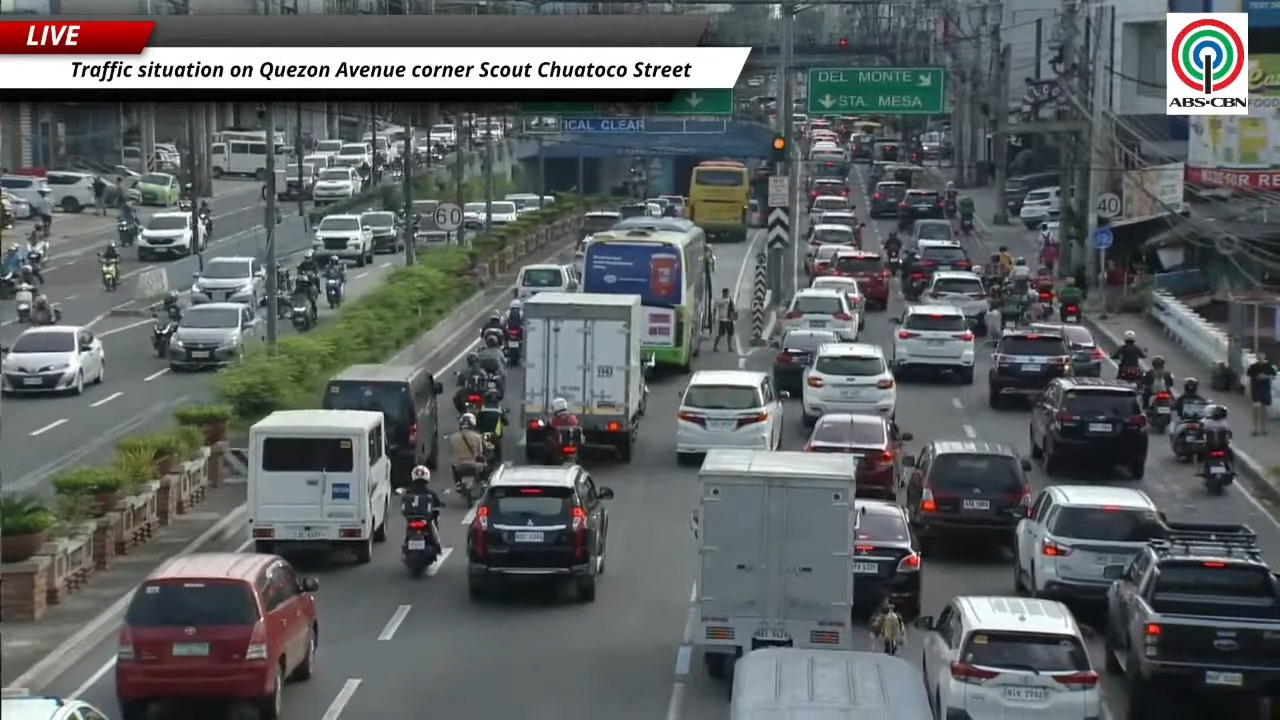bus: (582, 218, 711, 371), (685, 161, 750, 241), (209, 140, 266, 180), (210, 129, 266, 143)
car: (114, 553, 319, 718), (916, 596, 1105, 719), (466, 464, 612, 601), (1014, 485, 1163, 600), (322, 364, 443, 486), (899, 440, 1031, 544), (1029, 377, 1148, 478), (676, 370, 787, 463), (804, 412, 912, 498), (852, 499, 922, 619), (802, 343, 896, 426), (0, 325, 104, 394), (165, 302, 263, 370), (988, 329, 1070, 408), (892, 305, 974, 383), (811, 249, 887, 329), (772, 330, 839, 396), (1028, 323, 1106, 376), (780, 289, 859, 341), (924, 271, 989, 334), (903, 240, 972, 299), (190, 256, 265, 306), (136, 212, 207, 260), (0, 688, 109, 719), (312, 215, 373, 266), (1005, 172, 1059, 215), (516, 263, 578, 300), (810, 274, 867, 312), (45, 170, 95, 213), (312, 165, 361, 204), (1019, 186, 1061, 229), (361, 211, 403, 252), (133, 172, 180, 206), (806, 244, 849, 278), (464, 201, 518, 228), (809, 188, 851, 222), (868, 181, 906, 217), (899, 188, 943, 219), (0, 175, 48, 202), (911, 219, 957, 246), (809, 223, 855, 247), (866, 160, 900, 191), (810, 154, 848, 181), (334, 142, 373, 168), (812, 210, 857, 229), (809, 134, 843, 159), (0, 191, 30, 219), (504, 193, 541, 214), (428, 123, 457, 149), (488, 201, 518, 224), (313, 140, 343, 162), (850, 134, 873, 161), (463, 202, 486, 229), (872, 140, 900, 161), (658, 195, 686, 215), (748, 198, 764, 227)
motorcycle: (395, 488, 442, 578), (452, 433, 496, 507), (402, 517, 439, 578), (1169, 405, 1206, 461), (1201, 449, 1234, 494), (546, 427, 582, 464), (1147, 391, 1171, 433), (152, 316, 176, 357), (290, 296, 316, 333), (14, 283, 33, 323), (294, 272, 320, 300), (30, 303, 62, 325), (505, 328, 521, 366), (101, 259, 119, 292), (26, 249, 43, 282), (325, 277, 343, 308), (0, 272, 20, 299), (117, 219, 137, 246), (276, 267, 293, 293), (1116, 366, 1143, 382), (276, 291, 291, 319), (198, 209, 213, 237), (463, 392, 482, 414), (886, 250, 900, 275), (37, 214, 51, 238), (1062, 304, 1079, 323), (897, 212, 914, 231), (960, 216, 974, 236), (943, 200, 956, 219), (178, 198, 193, 212)
truck: (691, 449, 858, 678), (1104, 522, 1279, 717), (521, 292, 646, 462), (730, 648, 932, 719), (274, 162, 319, 200)
